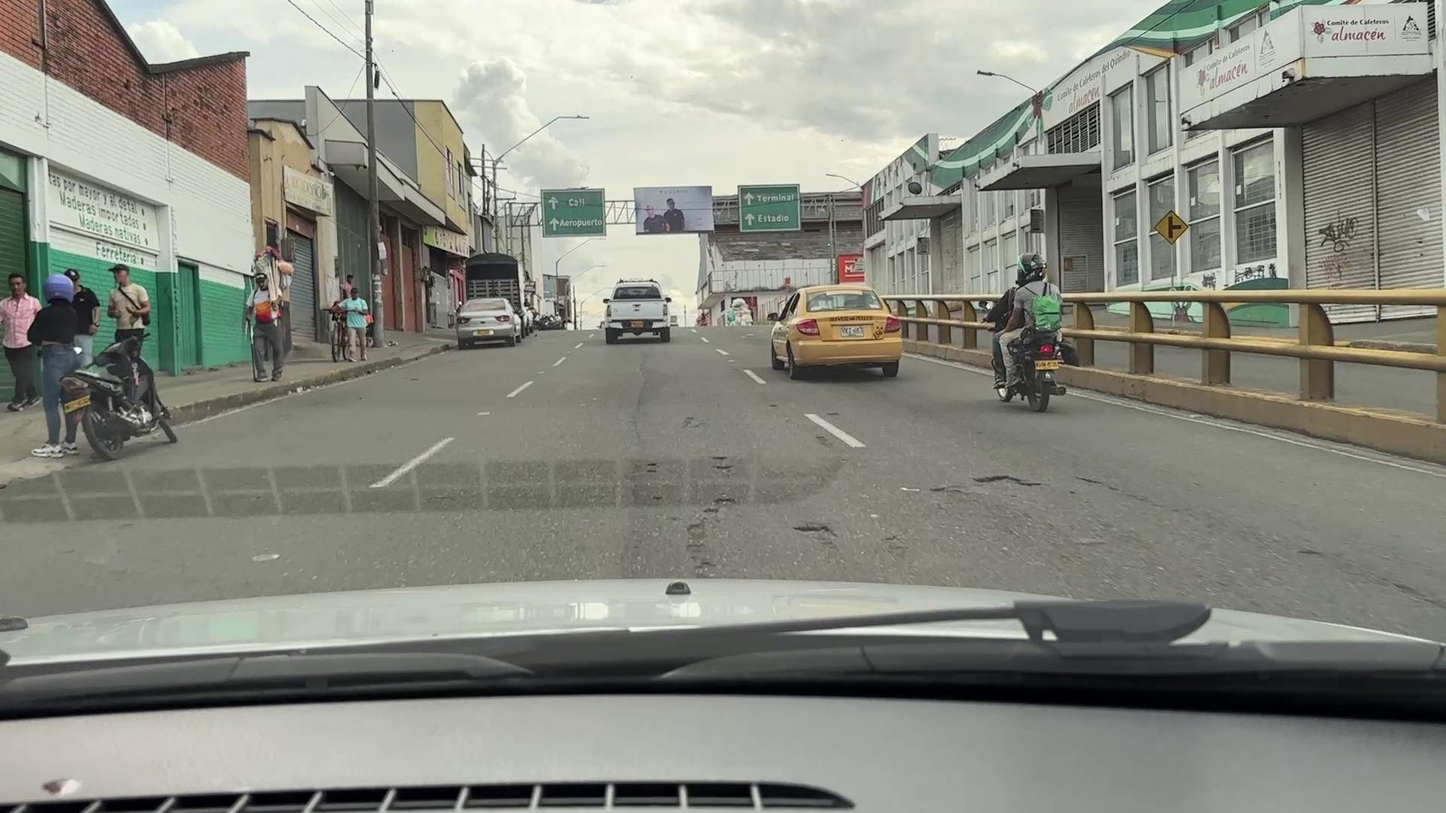bache: (688, 517, 715, 576), (974, 474, 1042, 486), (794, 522, 832, 534), (715, 498, 735, 503), (714, 466, 730, 470), (712, 456, 727, 460), (704, 509, 717, 512), (647, 463, 655, 466), (655, 497, 661, 500), (649, 471, 655, 472)
